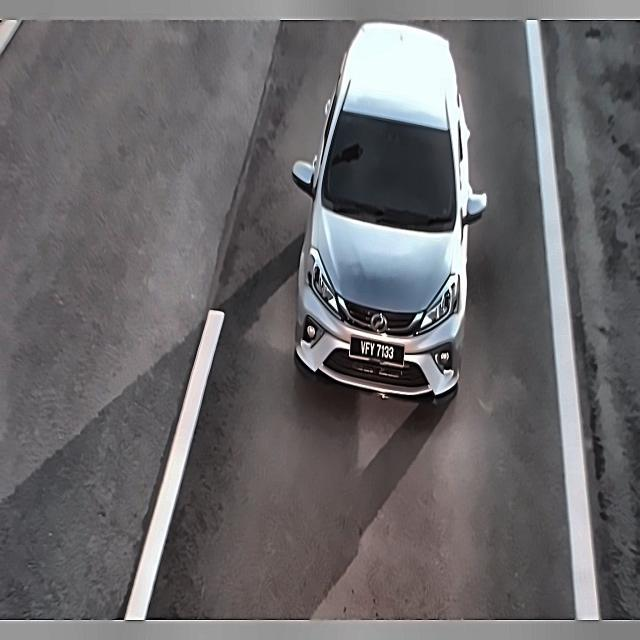car: (346, 330, 414, 371)
